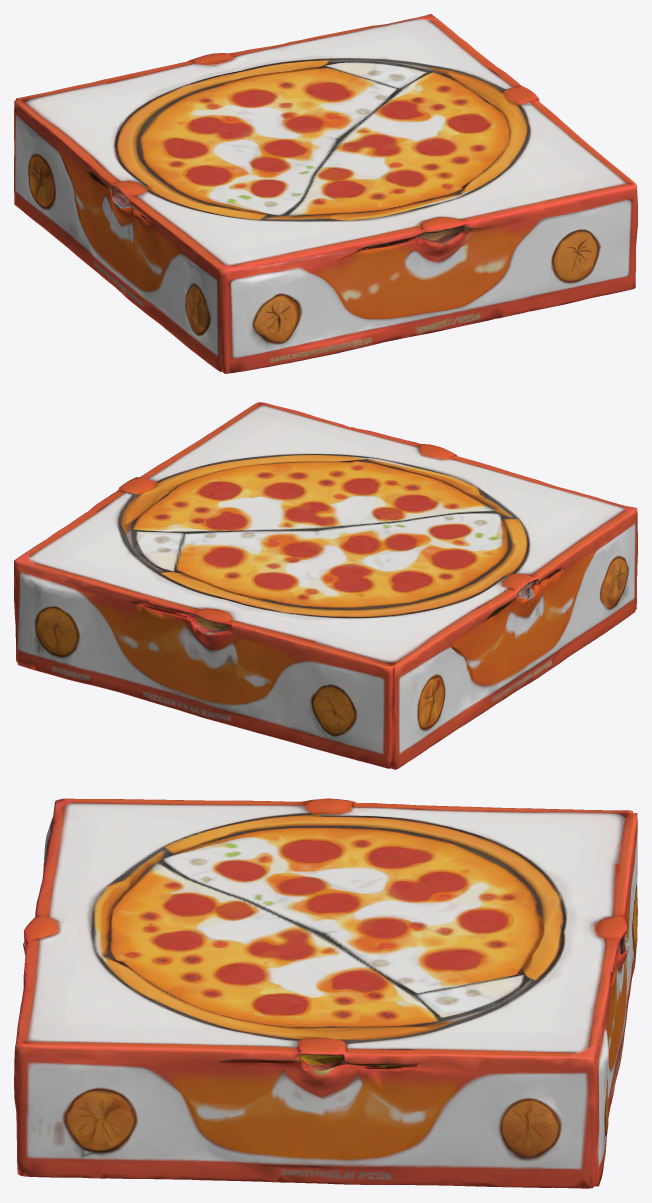
The model's file is pizzabox.glb.
The picture shows the model from 3 angles, top to bottom: view 1: azimuth 30°, elevation 25°; view 2: azimuth 150°, elevation 25°; view 3: azimuth 270°, elevation 25°; orthographic projection. The views are drawn at different scales.
Bounding box in the file's own units: 1.98 × 0.4782 × 1.99.
Materials: 1 (1 with a texture image).
